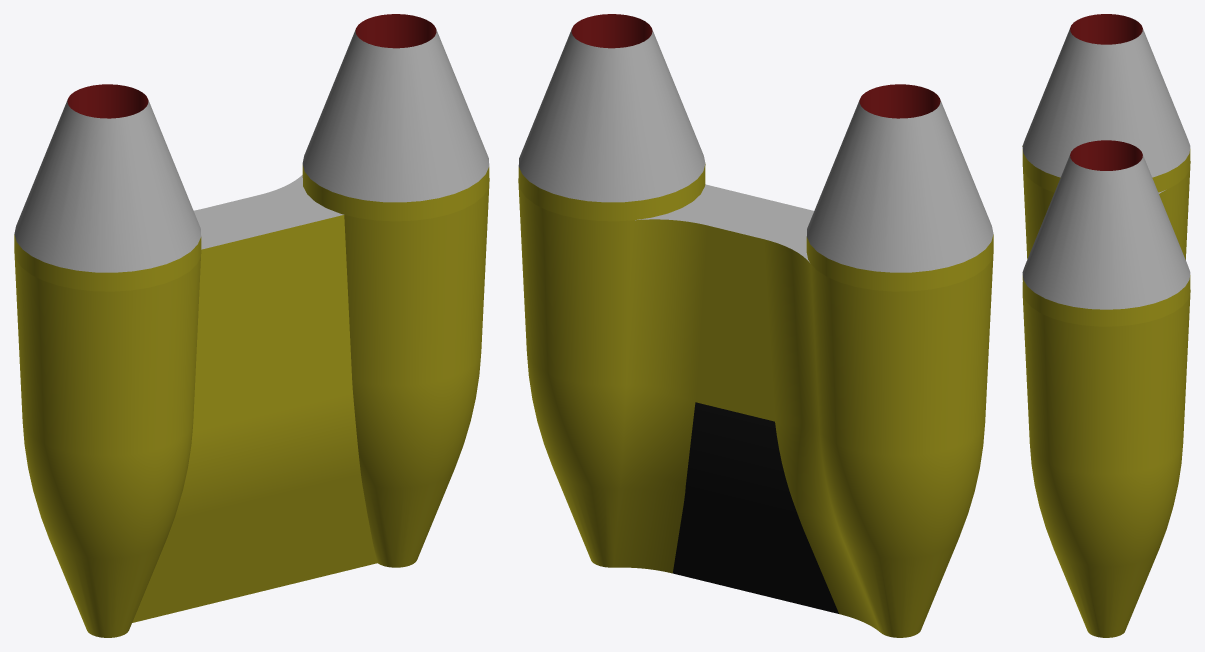
Rendered from Ship_6.fbx.
3 views of the same model, side by side, from view 1: azimuth 30°, elevation 25°; view 2: azimuth 150°, elevation 25°; view 3: azimuth 270°, elevation 25° (orthographic). The views are drawn at different scales.
Visible parts, largest first — view 1: 3DGeom~35, 3DGeom~34, 3DGeom~36; view 2: 3DGeom~35, 3DGeom~34, 3DGeom~37, 3DGeom~36; view 3: 3DGeom~35, 3DGeom~34, 3DGeom~36.
Boxes of the visible parts, x1=… form: 3DGeom~35: x1=14, y1=165, x2=489, y2=637; 3DGeom~34: x1=14, y1=29, x2=489, y2=272; 3DGeom~36: x1=67, y1=14, x2=436, y2=118; 3DGeom~35: x1=518, y1=164, x2=993, y2=637; 3DGeom~34: x1=518, y1=29, x2=993, y2=272; 3DGeom~37: x1=672, y1=402, x2=838, y2=613; 3DGeom~36: x1=571, y1=14, x2=940, y2=118; 3DGeom~35: x1=1022, y1=146, x2=1190, y2=637; 3DGeom~34: x1=1022, y1=29, x2=1190, y2=309; 3DGeom~36: x1=1070, y1=14, x2=1142, y2=170.
Bounding box in the file's own units: 0.1249 × 0.045 × 0.14.
